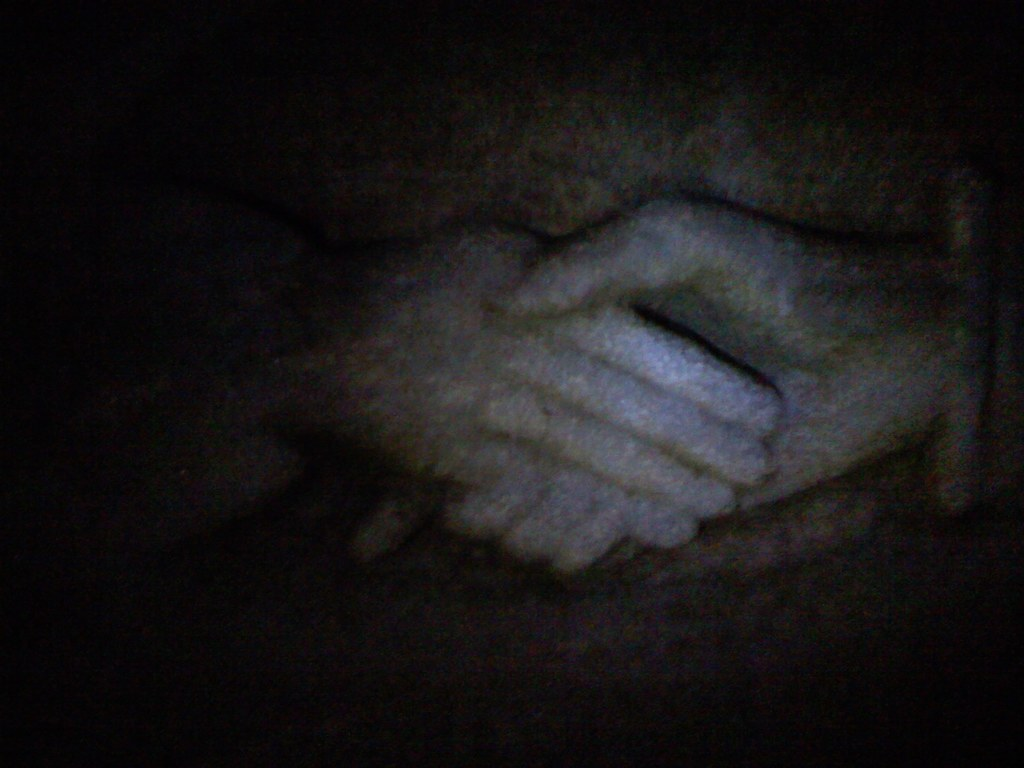Human_hand: (346, 188, 944, 579)
